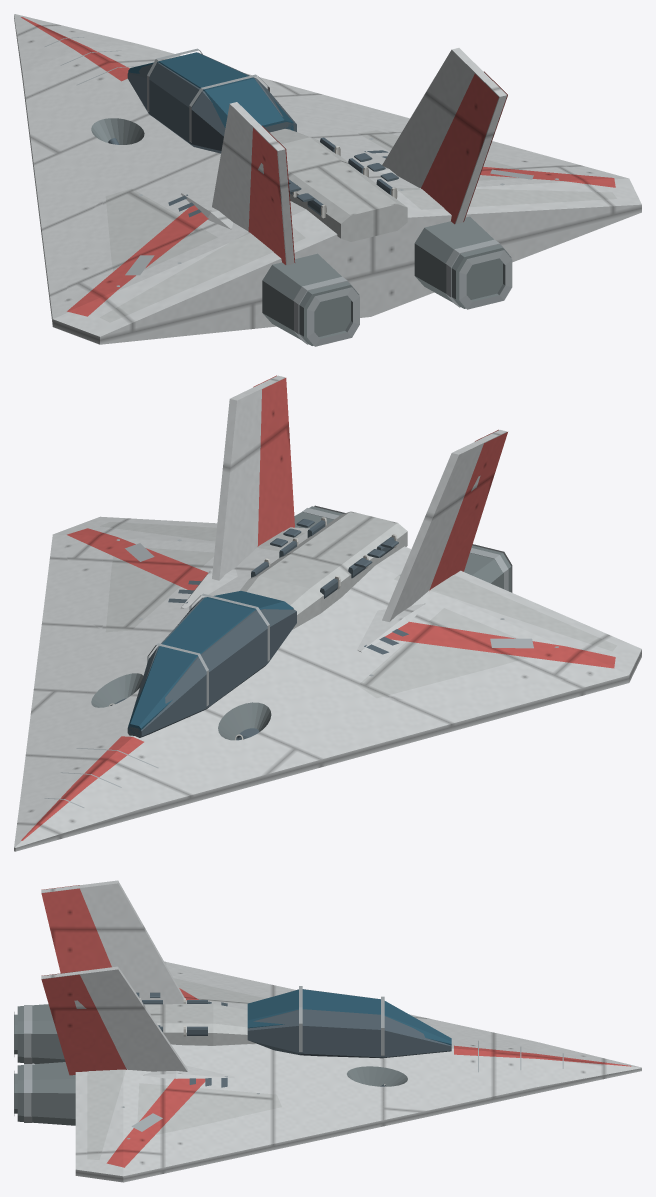
The model's file is raptor.gltf.
The picture shows the model from 3 angles, top to bottom: view 1: azimuth 30°, elevation 25°; view 2: azimuth 150°, elevation 25°; view 3: azimuth 270°, elevation 25°; orthographic projection. The views are drawn at different scales.
Visible parts, largest first — view 1: raptor; view 2: raptor; view 3: raptor.
Part boxes in pixels (x1,y1,x2,y2): raptor: (14,14,641,346); raptor: (14,375,641,851); raptor: (14,880,641,1182).
Bounding box in the file's own units: 10 × 3.71 × 11.87.
Materials: 8 (4 with a texture image).
